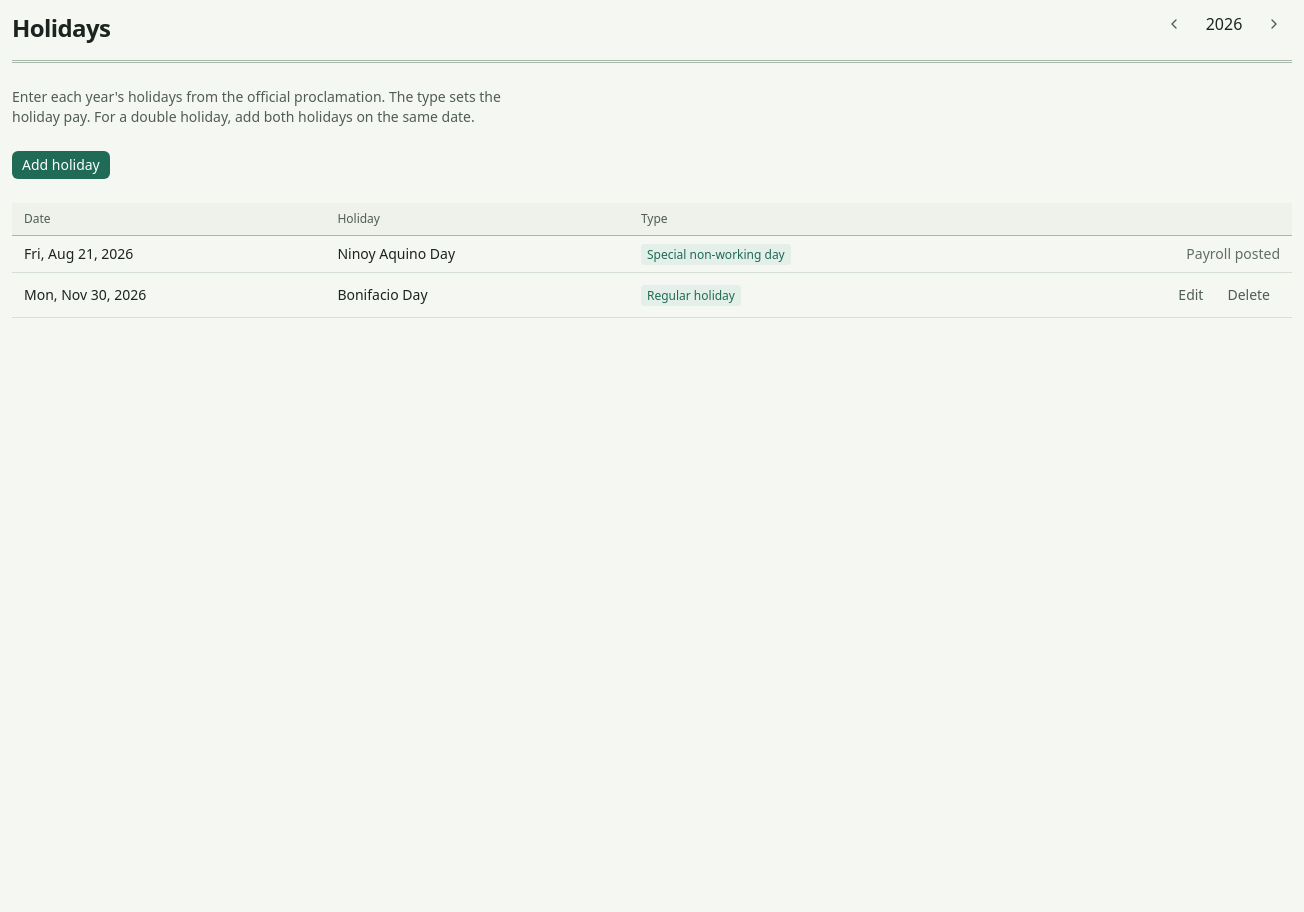
Test: HolidaysPage › shows the server's message beside the field
The width and height of the screenshot is (1304, 912).
Click the button with aria-label "Edit Bonifacio Day".
click(1191, 295)  # box [1168,281,1214,309]
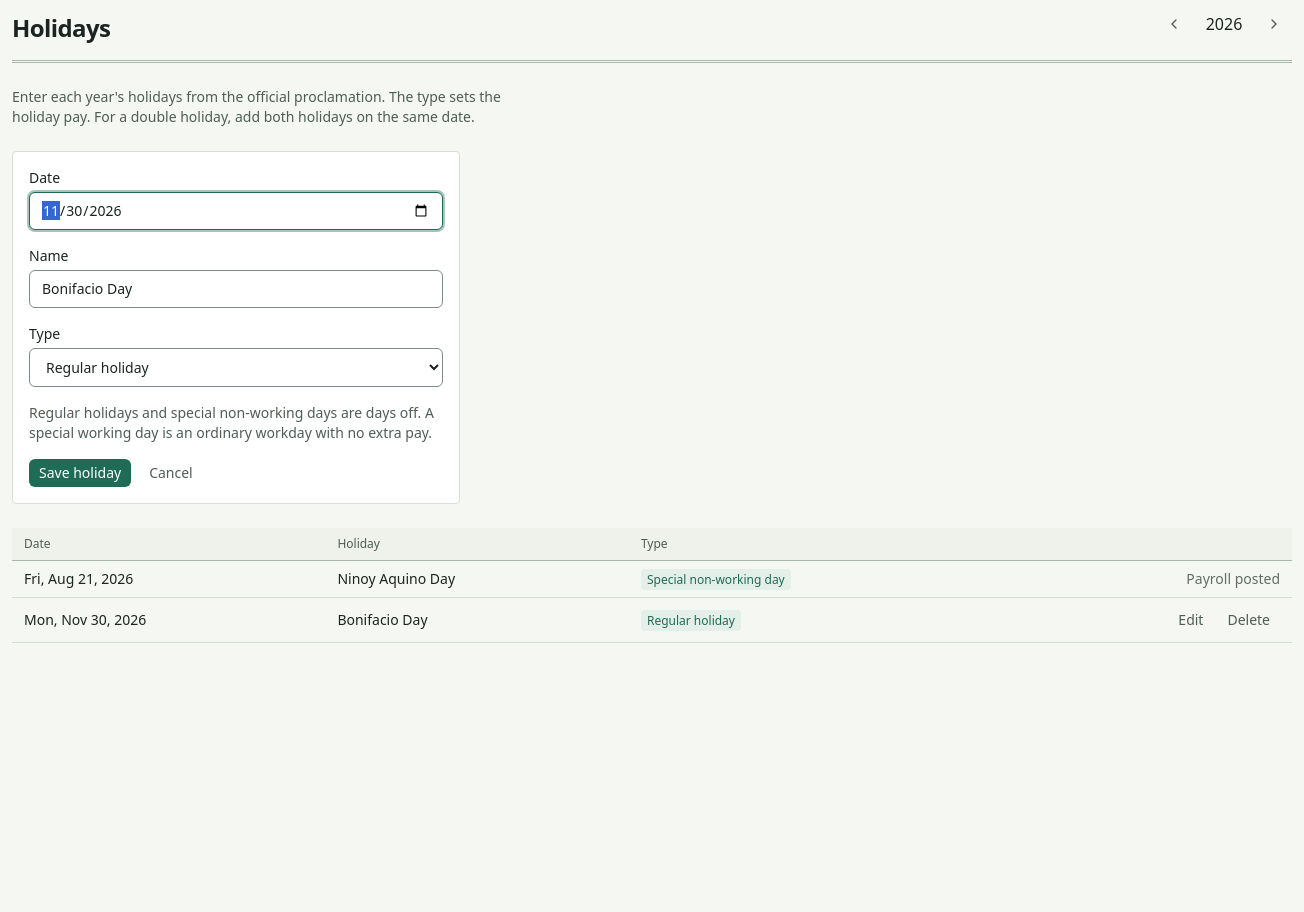
Check: the date field labelled "Date" holds "2026-11-30", box [29,192,443,230]
Select "Special working day" in the dropdown labelled "Type" at [236, 368], box [29,348,443,387]
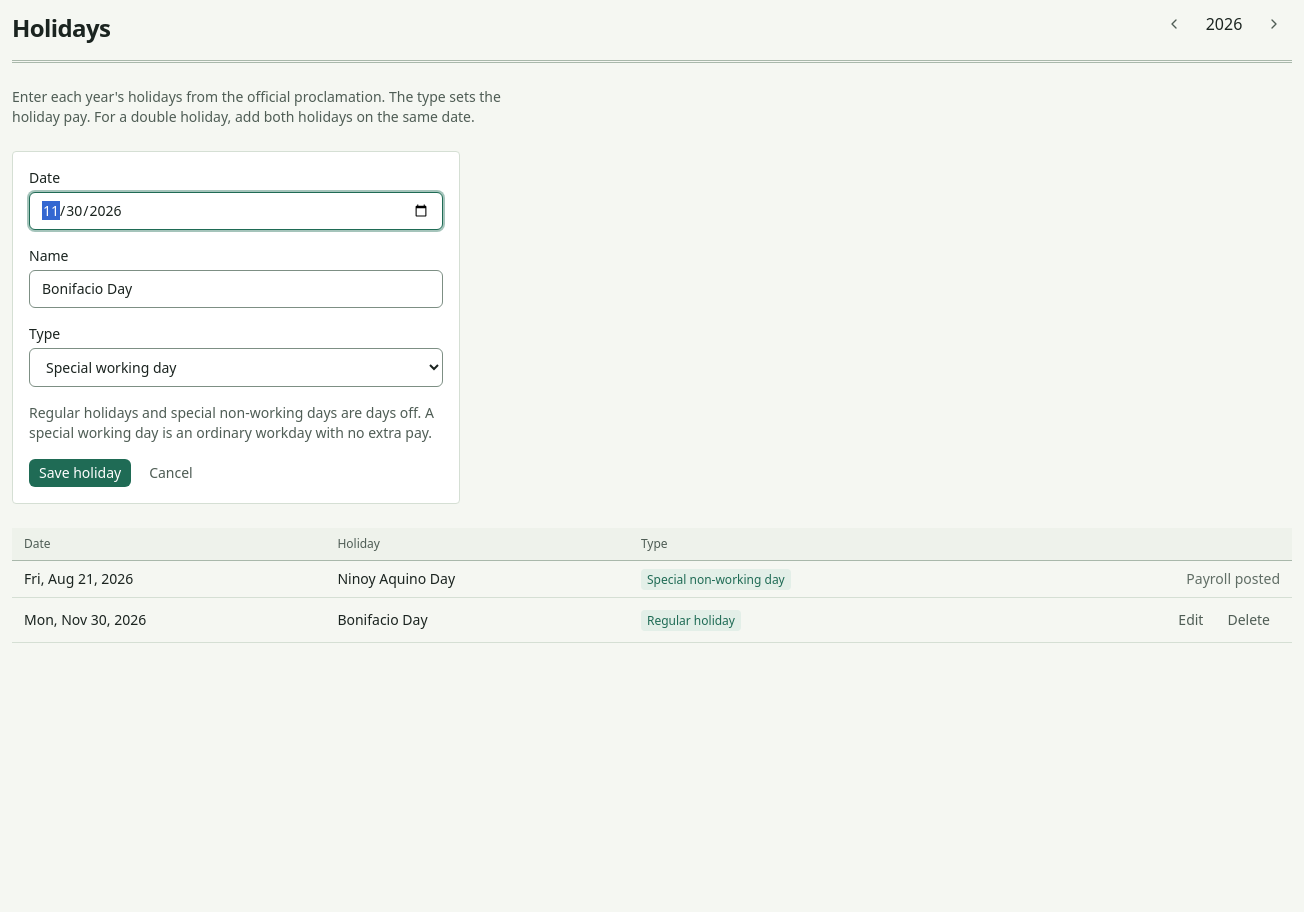
Click the button "Save holiday".
click(80, 473)  # box [29,459,131,487]
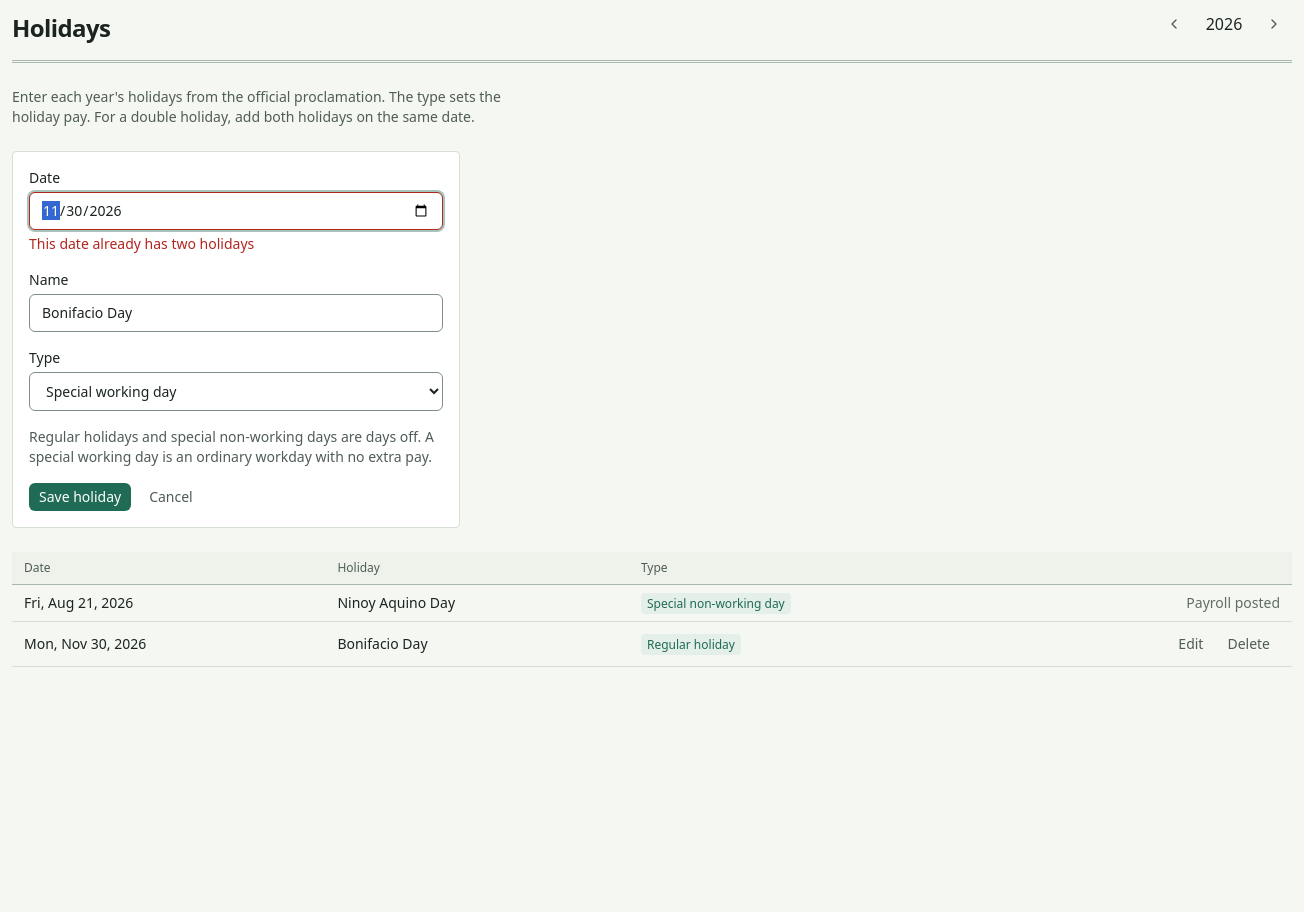
Check: the text "This date already has two holidays" is shown, box [29,234,254,253]
